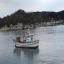fishing boat: (12, 32, 41, 52)
